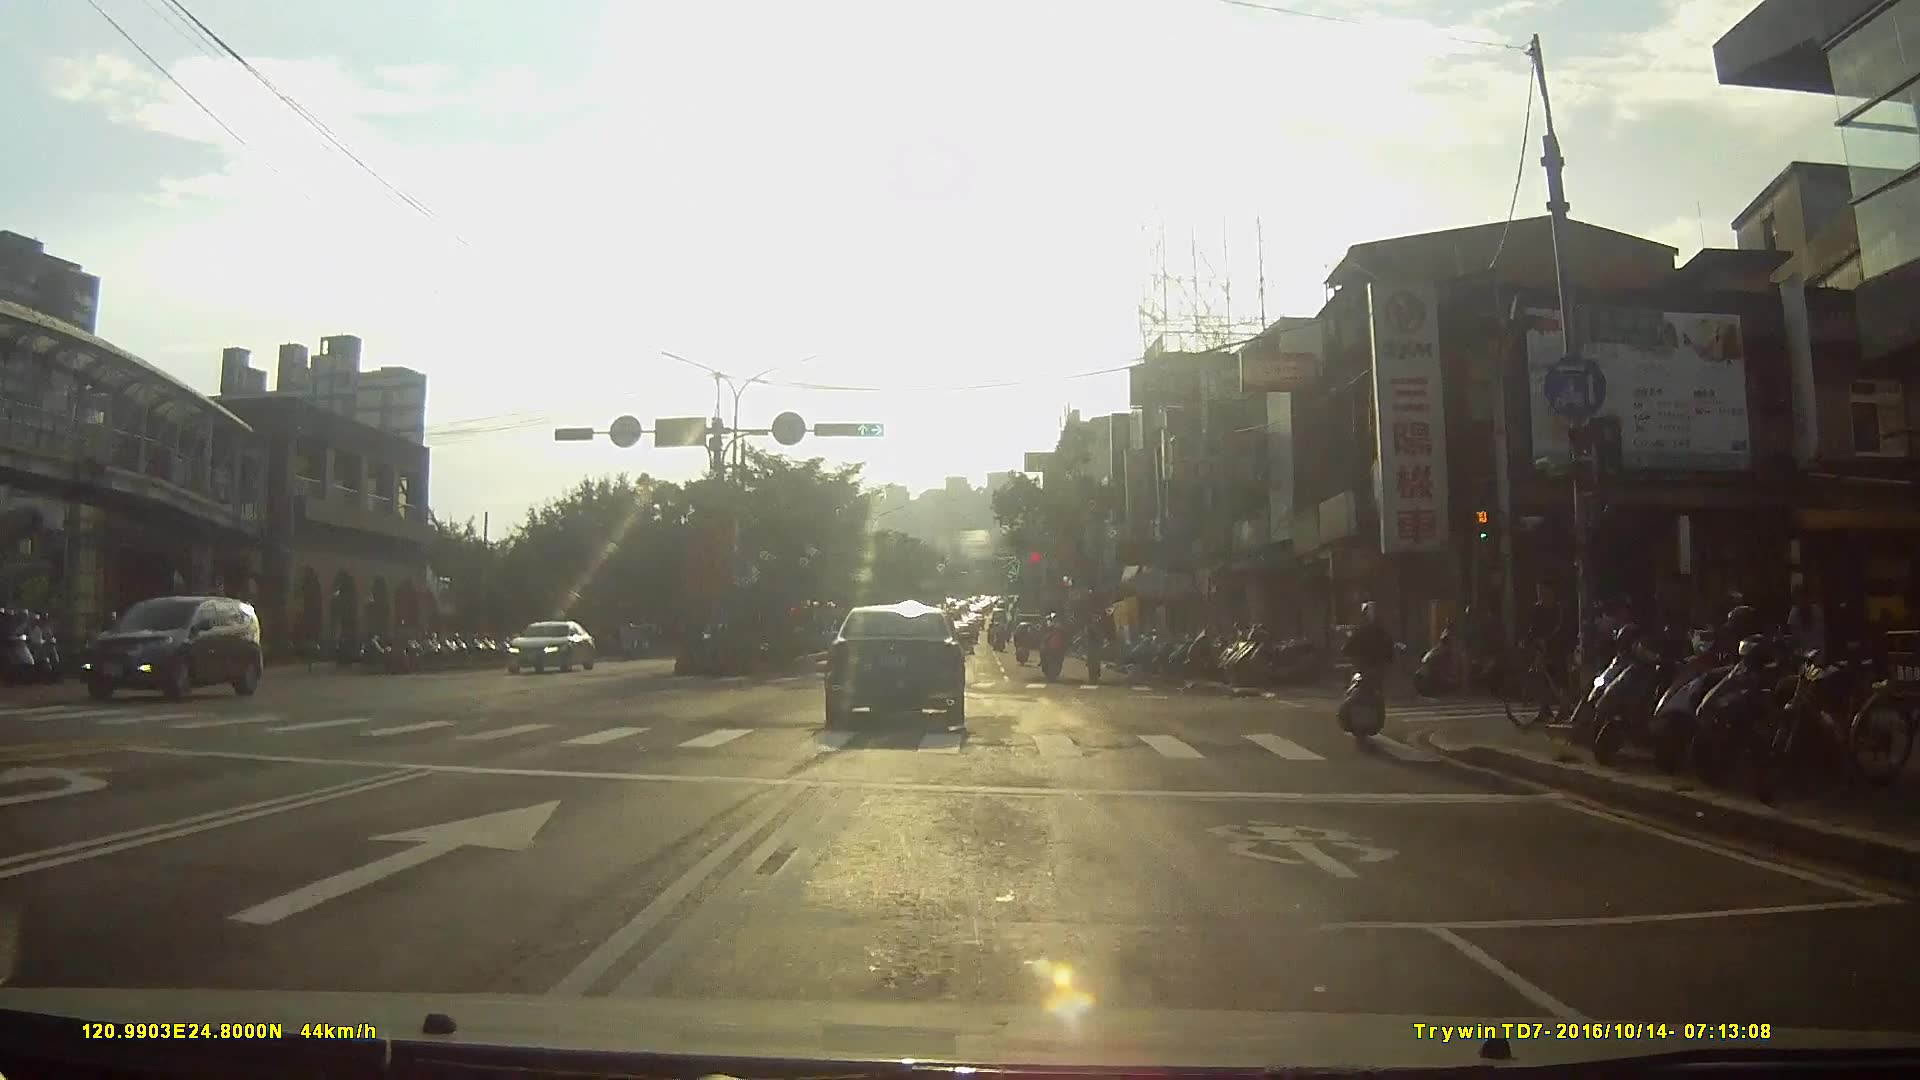pedestrian: (1787, 589, 1825, 696)
rider: (1496, 570, 1617, 735), (1339, 614, 1413, 758), (1038, 622, 1070, 684), (384, 620, 415, 679), (1011, 626, 1034, 673)
vehicle: (78, 598, 269, 715), (824, 609, 983, 750), (504, 626, 599, 684)
